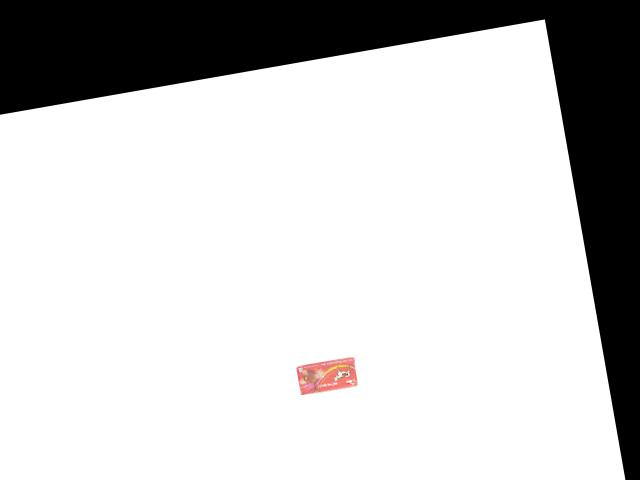chocolate: (294, 353, 361, 395)
